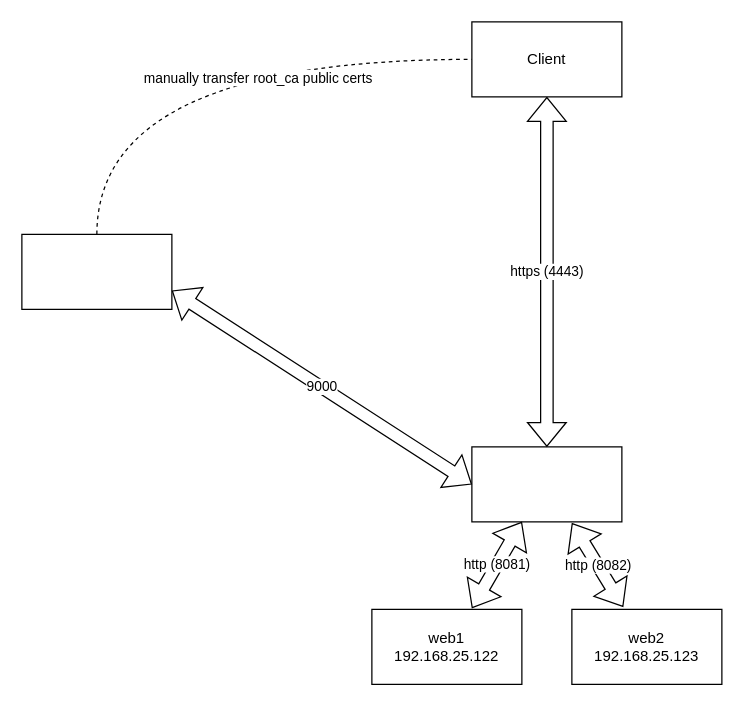
Some shapes in this 744 by 706 pixel diagram are drawn without their labels. Each missing label, with the box of its shape:
ca 192.168.25.15: (21, 233, 172, 309)
proxy 192.168.25.121: (471, 446, 622, 522)
